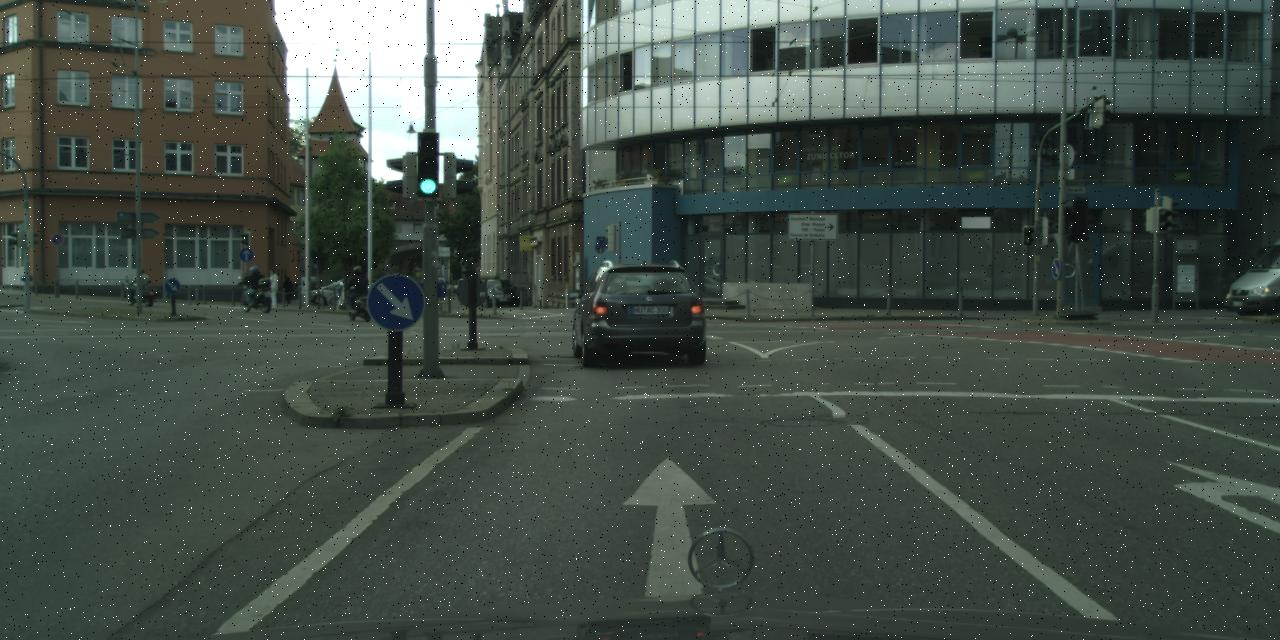ped: (350, 266, 368, 310), (264, 268, 280, 308), (246, 265, 262, 305), (133, 268, 145, 300), (281, 274, 293, 304)
